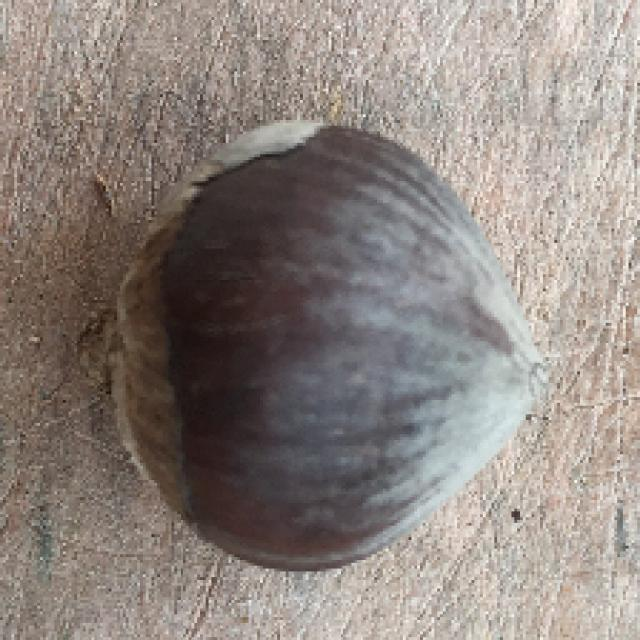DamagedHazelnut: (115, 119, 554, 575)
